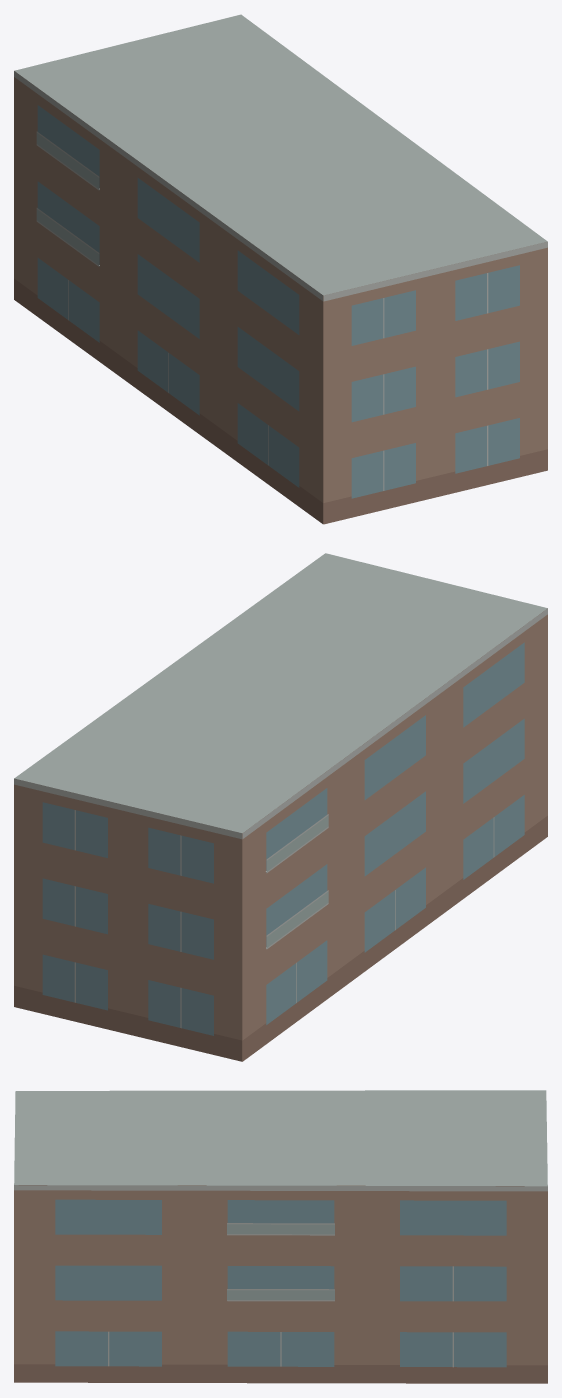
File: survey-upis-33033598.glb
3 renders of one model, top to bottom at view 1: azimuth 30°, elevation 25°; view 2: azimuth 150°, elevation 25°; view 3: azimuth 270°, elevation 25°, orthographic. The views are drawn at different scales.
Visible parts, largest first — view 1: survey-upis-33033598.tmp; view 2: survey-upis-33033598.tmp; view 3: survey-upis-33033598.tmp.
Boxes of the visible parts, x1,y1,x2,y2 form: survey-upis-33033598.tmp: (14,14,547,524); survey-upis-33033598.tmp: (14,553,547,1061); survey-upis-33033598.tmp: (14,1090,547,1383).
Size of the model in its own units: 9.57 by 9.15 by 22.42.
